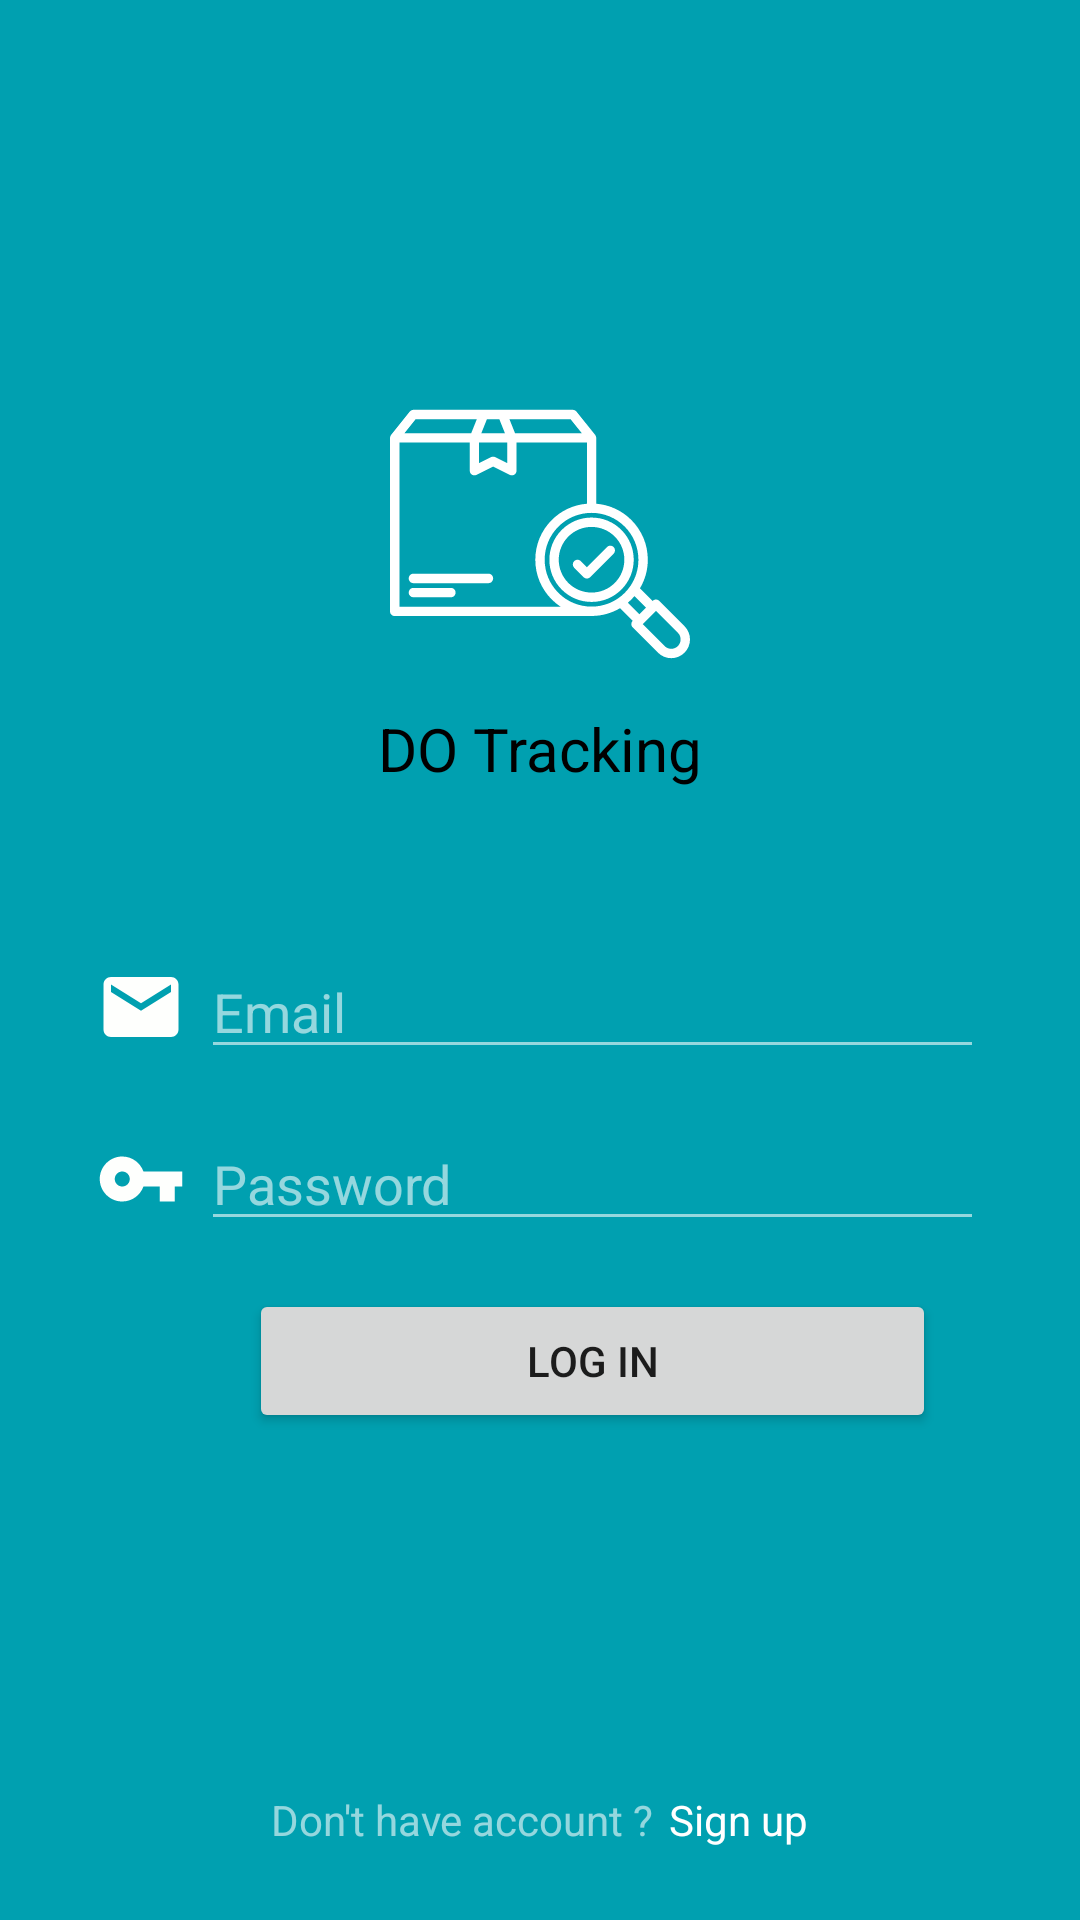

Where icons sit on this 1080px x 1920px app screen, as rect(x1, y1, x2, y2):
inspection: rect(390, 409, 690, 659)
vpn key: rect(99, 1156, 183, 1202)
